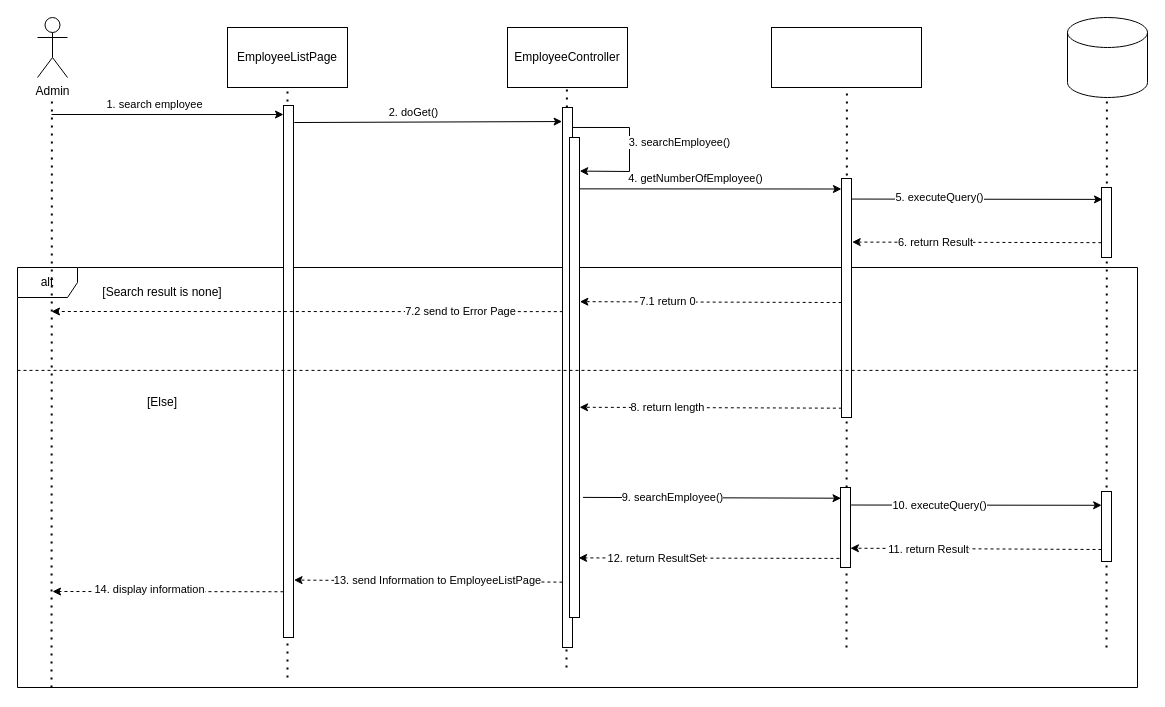
Some shapes in this 1165 by 707 pixel diagram are drawn without their labels. The shapes that lost their labels are listed below. From the top down, each one's box as (x1, y1, x2, y2) in pixels, then its label:
(770, 26, 922, 88): empDAO:EmployeeDAO
(1066, 16, 1148, 98): DB
